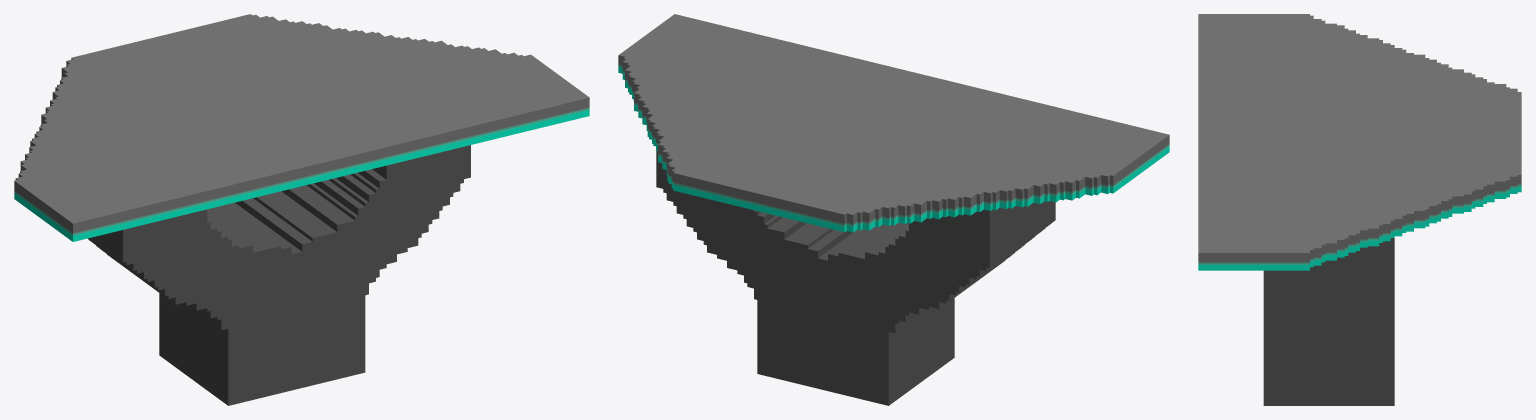
The model's file is Lab-7-Desk.fbx.
The picture shows the model from 3 angles, left to right: view 1: azimuth 30°, elevation 25°; view 2: azimuth 150°, elevation 25°; view 3: azimuth 270°, elevation 25°; orthographic projection. The views are drawn at different scales.
Parts seen in each view (by area): view 1: Desk; view 2: Desk; view 3: Desk.
Boxes of the visible parts, bbox=[...] form: Desk: bbox=[14, 14, 589, 405]; Desk: bbox=[618, 14, 1169, 405]; Desk: bbox=[1198, 14, 1521, 405].
Bounding box in the file's own units: 147 × 69 × 84.
